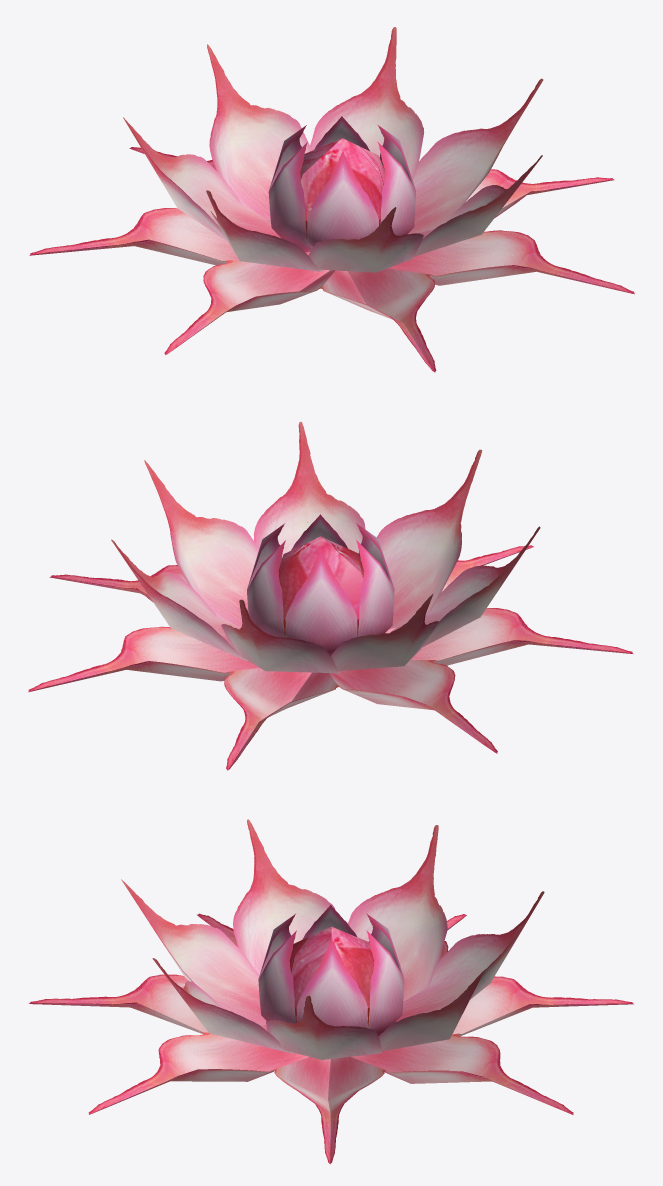
The model's file is ShangXinHua.FBX.
3 renders of one model, top to bottom at view 1: azimuth 30°, elevation 25°; view 2: azimuth 150°, elevation 25°; view 3: azimuth 270°, elevation 25°, orthographic.
Parts seen in each view (by area): view 1: 1fd9b1f0.obj; view 2: 1fd9b1f0.obj; view 3: 1fd9b1f0.obj.
Part boxes in pixels (left/top/right/bottom): 1fd9b1f0.obj: left=29, top=27, right=634, bottom=372; 1fd9b1f0.obj: left=28, top=421, right=633, bottom=770; 1fd9b1f0.obj: left=29, top=819, right=633, bottom=1164.
Size of the model in its own units: 1.04 by 0.2967 by 1.06.
1 material, 1 textured.
